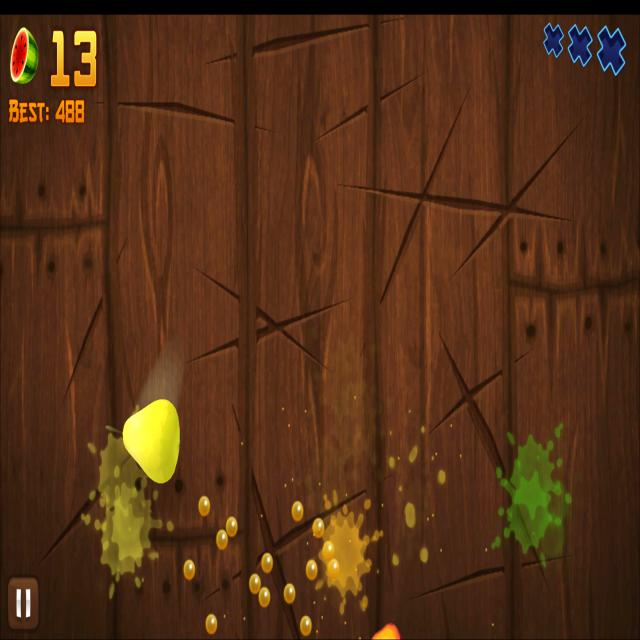fruit: (122, 398, 181, 483)
